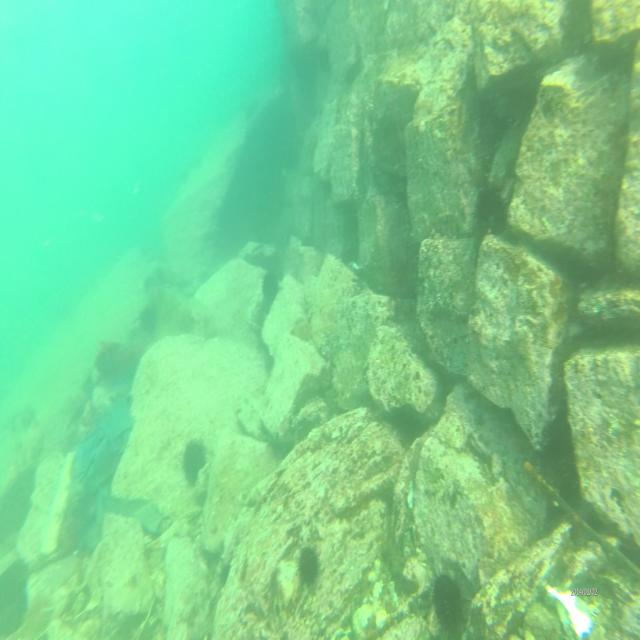echinus: (428, 567, 466, 634), (474, 181, 506, 236), (180, 437, 208, 484), (299, 543, 319, 586), (261, 270, 281, 303)
